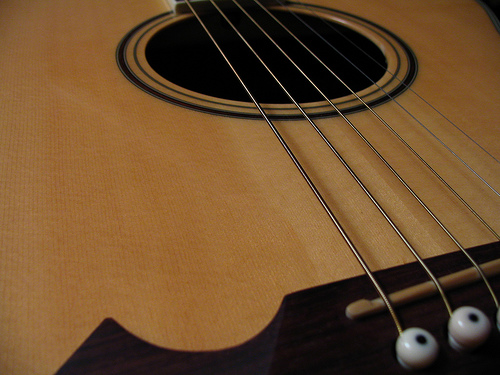guitar: (2, 2, 498, 375)
